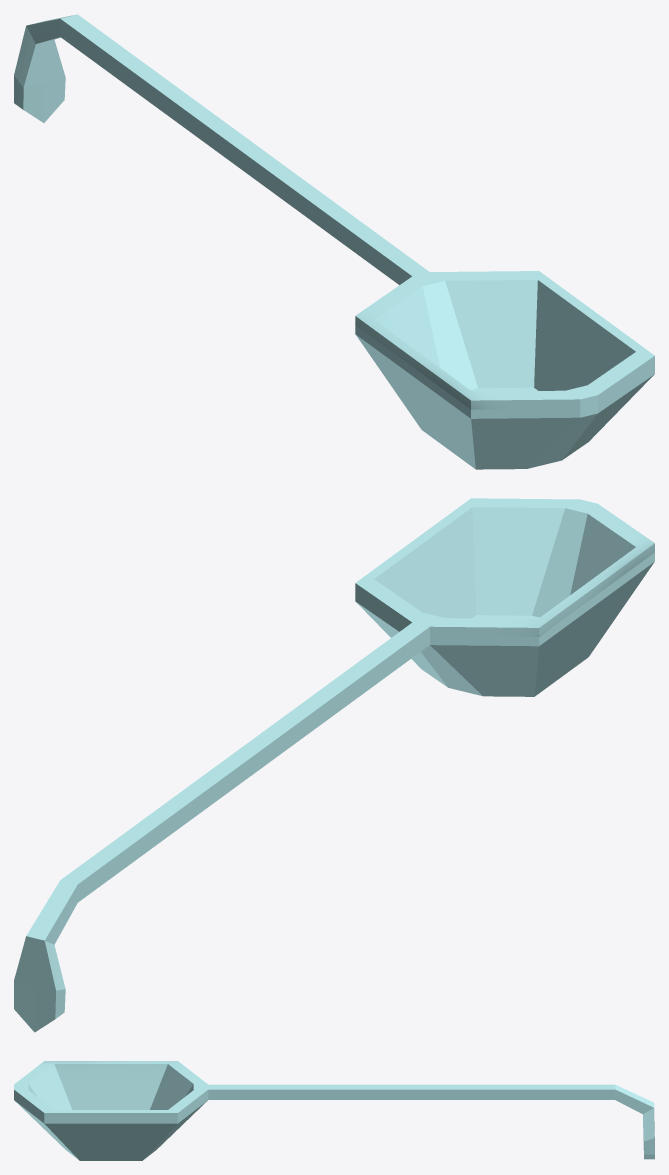
Rendered from cuccharon.fbx.
The picture shows the model from 3 angles, top to bottom: view 1: azimuth 30°, elevation 25°; view 2: azimuth 150°, elevation 25°; view 3: azimuth 270°, elevation 25°; orthographic projection. The views are drawn at different scales.
Parts seen in each view (by area): view 1: Cube; view 2: Cube; view 3: Cube.
Boxes of the visible parts, <box> form: Cube: <box>14,14,654,469</box>; Cube: <box>14,498,654,1032</box>; Cube: <box>14,1061,654,1160</box>.
Bounding box in the file's own units: 83.28 × 54.16 × 435.
Materials: 1 (1 with a texture image).
